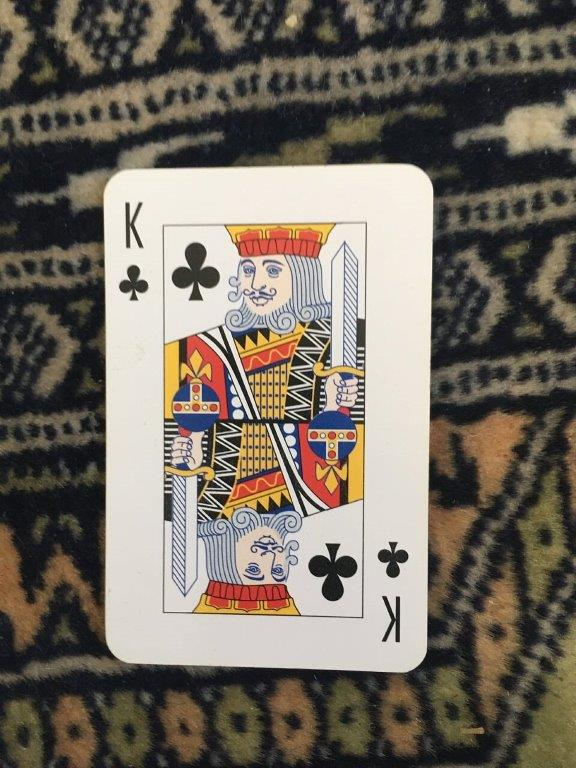KC: (99, 161, 436, 676)
